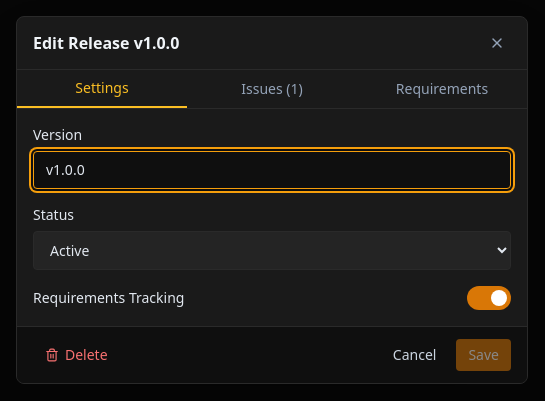
EditReleaseDialog › should switch to Requirements tab and show coverage matrix
The width and height of the screenshot is (545, 401).
# Click on Requirements tab
Click the button "Requirements".
click(442, 89)  # box x1=357 y1=70 x2=527 y2=108
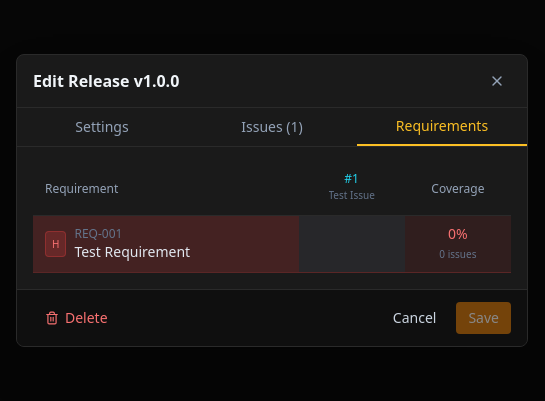
Now the element with test id "coverage-matrix" is shown, box x1=33 y1=162 x2=511 y2=272
